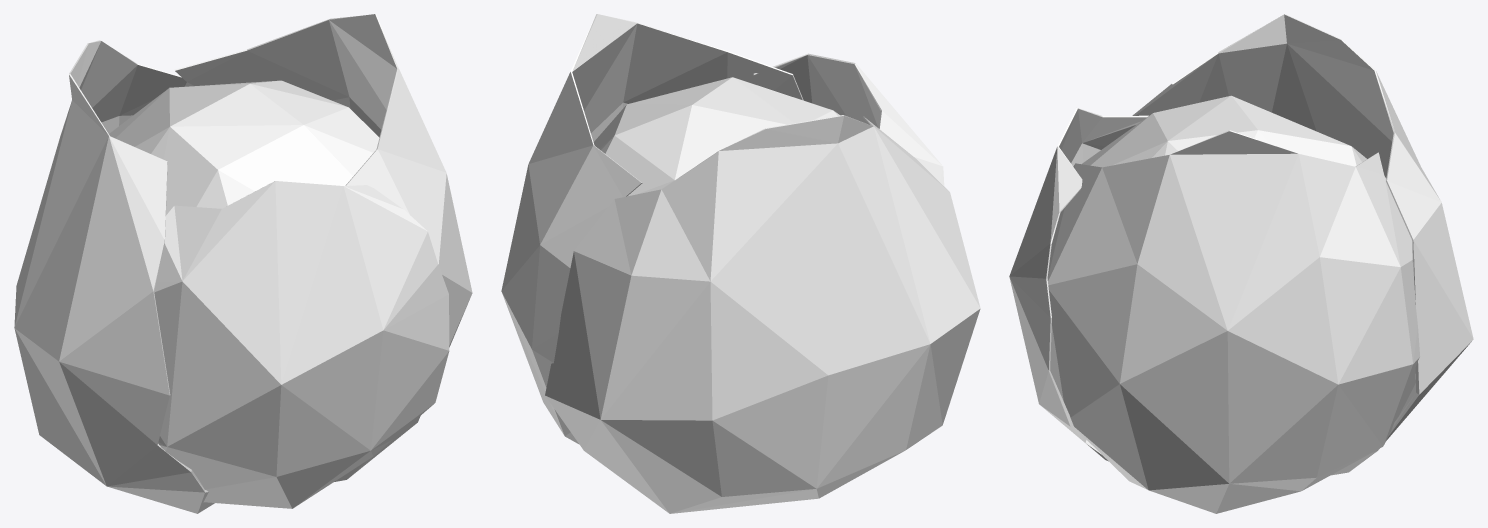
The model's file is Crop_Cabbage_01.glb.
3 views of the same model, side by side, from view 1: azimuth 30°, elevation 25°; view 2: azimuth 150°, elevation 25°; view 3: azimuth 270°, elevation 25° (orthographic). The views are drawn at different scales.
Parts seen in each view (by area): view 1: Crop_Cabbage_01; view 2: Crop_Cabbage_01; view 3: Crop_Cabbage_01.
Boxes of the visible parts, x1,y1,x2,y2 form: Crop_Cabbage_01: [14, 14, 472, 513]; Crop_Cabbage_01: [501, 14, 980, 513]; Crop_Cabbage_01: [1009, 14, 1473, 513].
Bounding box in the file's own units: 0.3106 × 0.3184 × 0.3199.
1 material, 1 textured.
